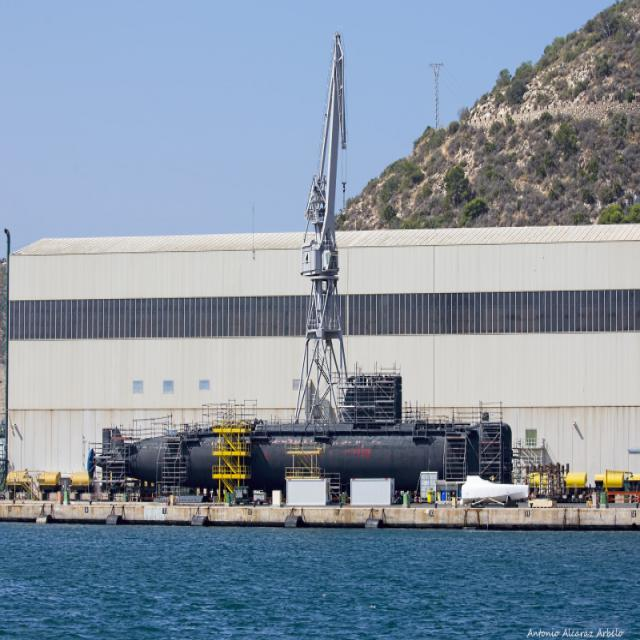submarine: (75, 366, 512, 491)
